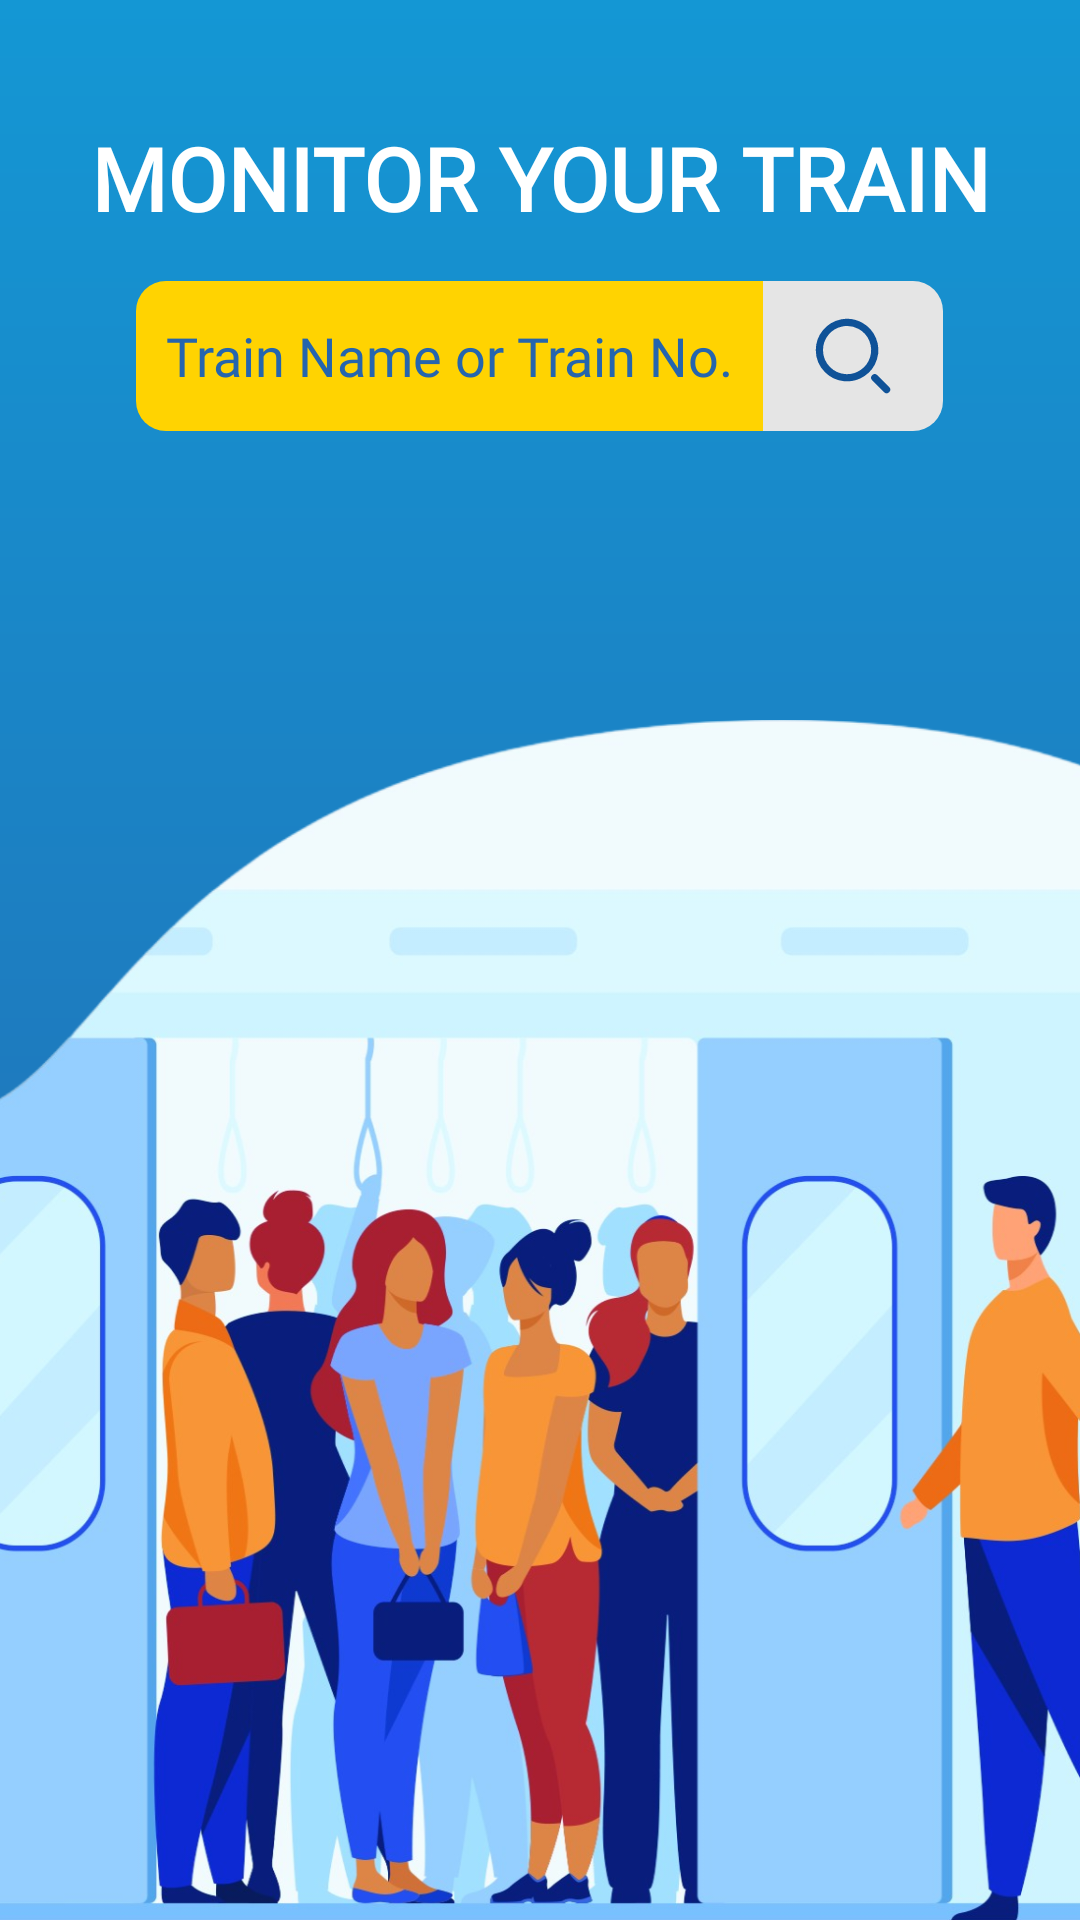

Icon click points for this 1080w x 1920h phone screenshot, format [x,y]:
search: [853,356]
